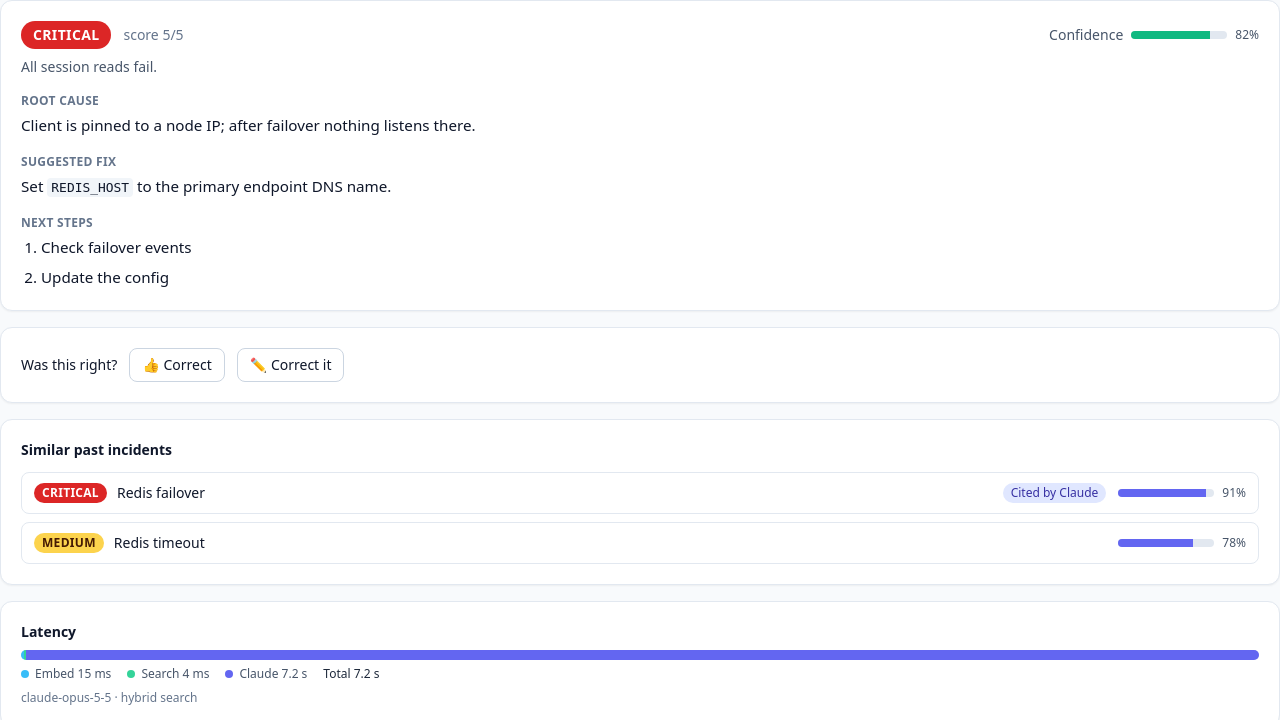
Test: Feedback › shows the API error, e.g. feedback already given
Click the button "👍 Correct" at (177, 365), box [129,348,225,382]
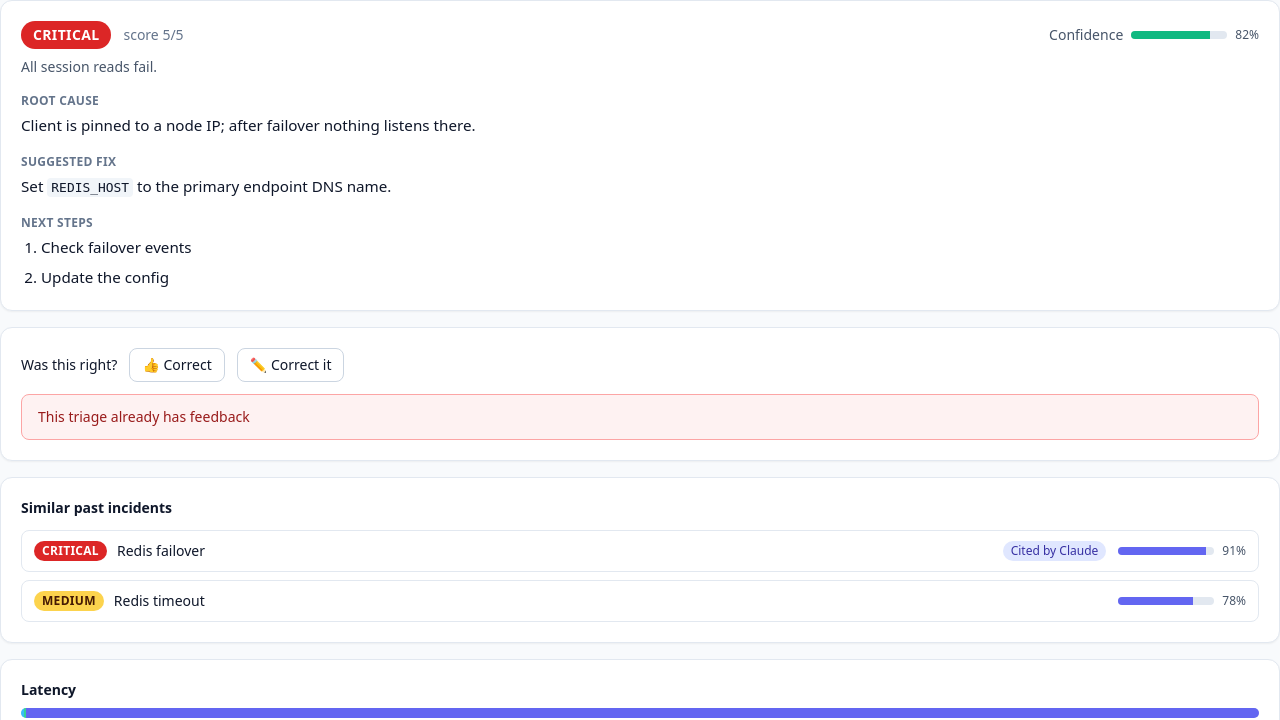
Now the message shows "already has feedback", box [38,407,250,426]
